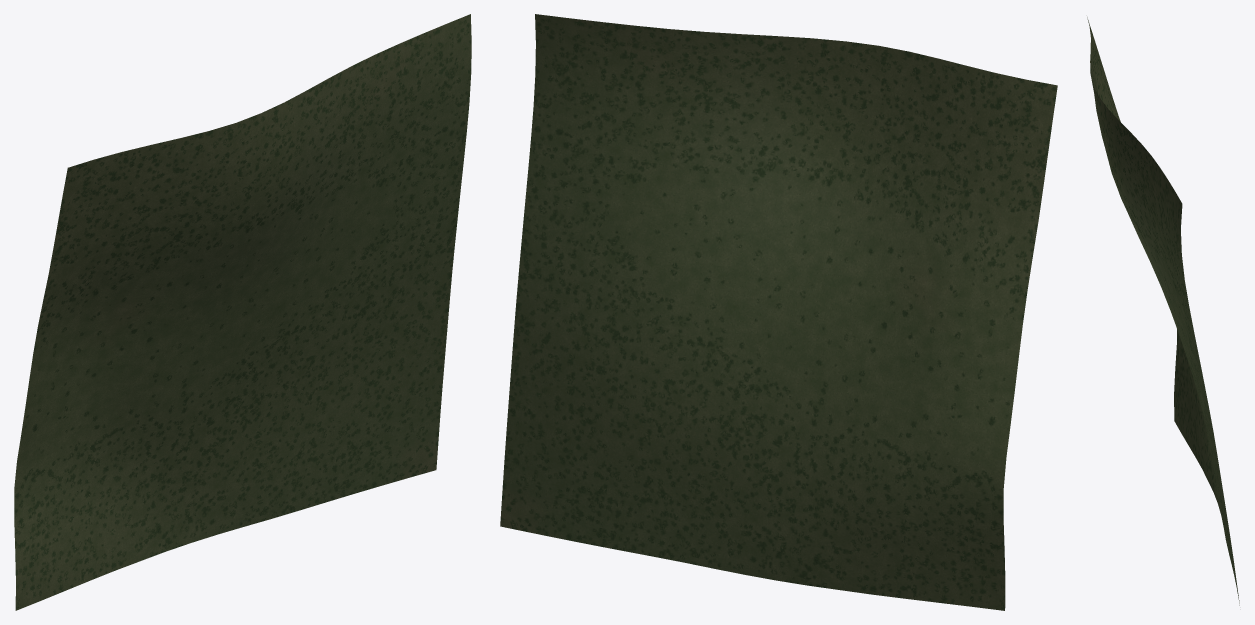
File: terrain_mid_06_02.obj
3 renders of one model, left to right at view 1: azimuth 30°, elevation 25°; view 2: azimuth 150°, elevation 25°; view 3: azimuth 270°, elevation 25°, orthographic. The views are drawn at different scales.
Parts seen in each view (by area): view 1: terrain_mid_06_02; view 2: terrain_mid_06_02; view 3: terrain_mid_06_02.
Boxes of the visible parts, x1,y1,x2,y2 form: terrain_mid_06_02: (14,14,471,610); terrain_mid_06_02: (500,14,1057,610); terrain_mid_06_02: (1087,17,1239,605).
Bounding box in the file's own units: 320 × 320 × 110.
1 material, 1 textured.
